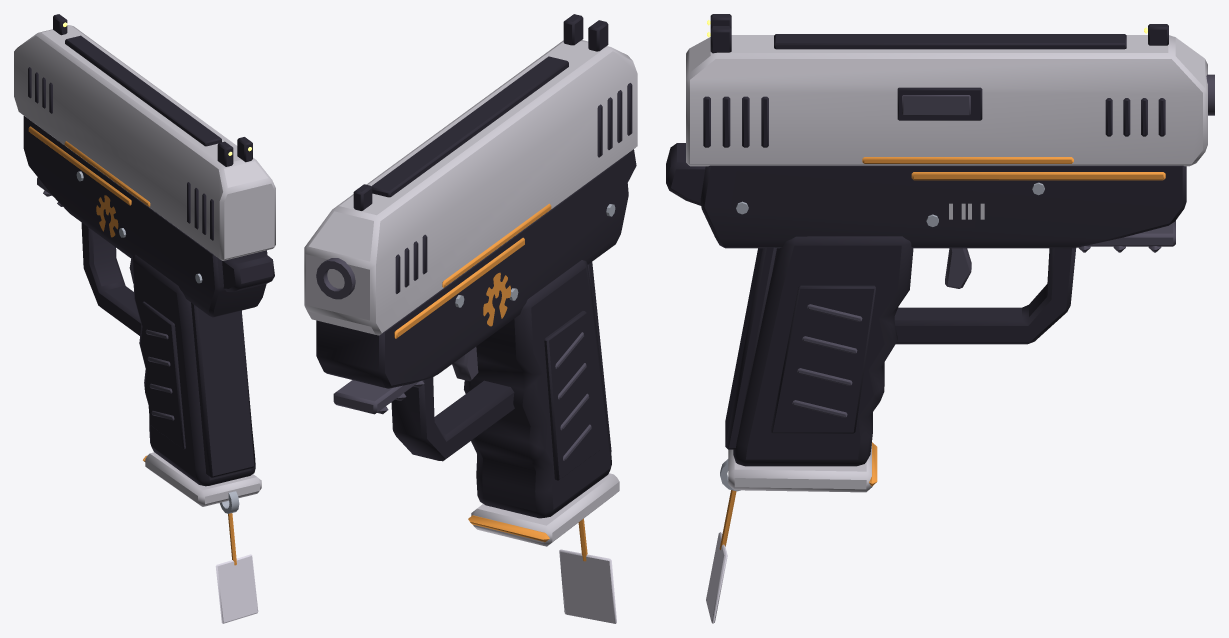
The model's file is r41_sidearm.glb.
The picture shows the model from 3 angles, left to right: view 1: azimuth 30°, elevation 25°; view 2: azimuth 150°, elevation 25°; view 3: azimuth 270°, elevation 25°; orthographic projection. The views are drawn at different scales.
Parts seen in each view (by area): view 1: r41_sidearm_shell, slide, mag, r41_sidearm_ceramic, r41_sidearm_amber, r41_sidearm_metal, r41_sidearm_steel, r41_sidearm_decals; view 2: r41_sidearm_shell, slide, mag, r41_sidearm_metal, r41_sidearm_ceramic, r41_sidearm_amber, r41_sidearm_decals, trigger; view 3: r41_sidearm_shell, slide, mag, r41_sidearm_metal, r41_sidearm_amber, r41_sidearm_ceramic, trigger.
Part boxes in pixels (x1,y1,x2,y2): r41_sidearm_shell: (23, 116, 274, 486); slide: (14, 14, 275, 260); mag: (143, 452, 261, 506); r41_sidearm_ceramic: (215, 554, 258, 623); r41_sidearm_amber: (28, 126, 236, 565); r41_sidearm_metal: (37, 177, 174, 420); r41_sidearm_steel: (76, 171, 239, 513); r41_sidearm_decals: (96, 195, 118, 237); r41_sidearm_shell: (316, 149, 636, 518); slide: (304, 14, 637, 335); mag: (468, 473, 619, 546); r41_sidearm_metal: (316, 258, 591, 460); r41_sidearm_ceramic: (559, 549, 616, 623); r41_sidearm_amber: (394, 237, 587, 561); r41_sidearm_decals: (483, 272, 510, 326); trigger: (452, 347, 478, 381); r41_sidearm_shell: (666, 143, 1186, 466); slide: (686, 14, 1207, 166); mag: (728, 442, 877, 492); r41_sidearm_metal: (792, 74, 1214, 417); r41_sidearm_amber: (719, 172, 1165, 549); r41_sidearm_ceramic: (706, 532, 727, 623); trigger: (945, 248, 971, 288).
Bounding box in the file's own units: 0.0276 × 0.1848 × 0.1556.
